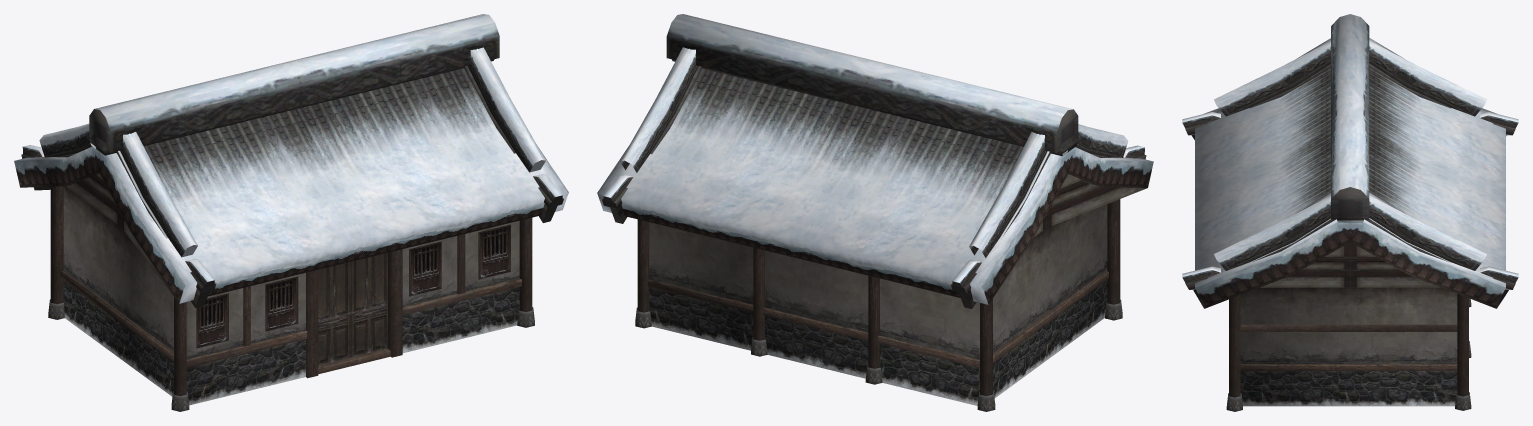
Rendered from Snow house_2.FBX.
3 renders of one model, left to right at view 1: azimuth 30°, elevation 25°; view 2: azimuth 150°, elevation 25°; view 3: azimuth 270°, elevation 25°, orthographic. The views are drawn at different scales.
Visible parts, largest first — view 1: Snow house01; view 2: Snow house01; view 3: Snow house01.
Boxes of the visible parts, x1,y1,x2,y2 form: Snow house01: (14, 14, 568, 411); Snow house01: (597, 14, 1153, 411); Snow house01: (1182, 14, 1518, 411).
Bounding box in the file's own units: 1455 × 906 × 1188.
